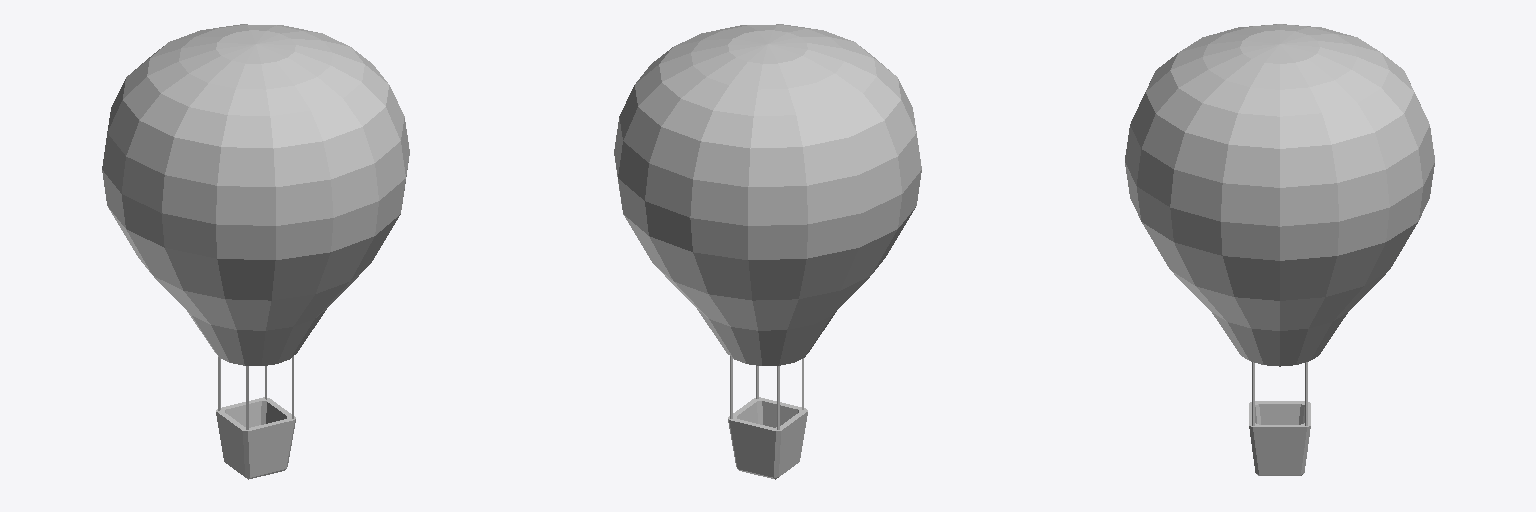
File: mobile_balloon.obj
3 views of the same model, side by side, from view 1: azimuth 30°, elevation 25°; view 2: azimuth 150°, elevation 25°; view 3: azimuth 270°, elevation 25° (orthographic).
Parts seen in each view (by area): view 1: mobile_balloon:pCylinder5; view 2: mobile_balloon:pCylinder5; view 3: mobile_balloon:pCylinder5.
Part boxes in pixels (bbox=[...]): mobile_balloon:pCylinder5: bbox=[102, 24, 409, 479]; mobile_balloon:pCylinder5: bbox=[614, 24, 921, 479]; mobile_balloon:pCylinder5: bbox=[1125, 24, 1434, 475].
Bounding box in the file's own units: 59.41 × 89.41 × 59.41.